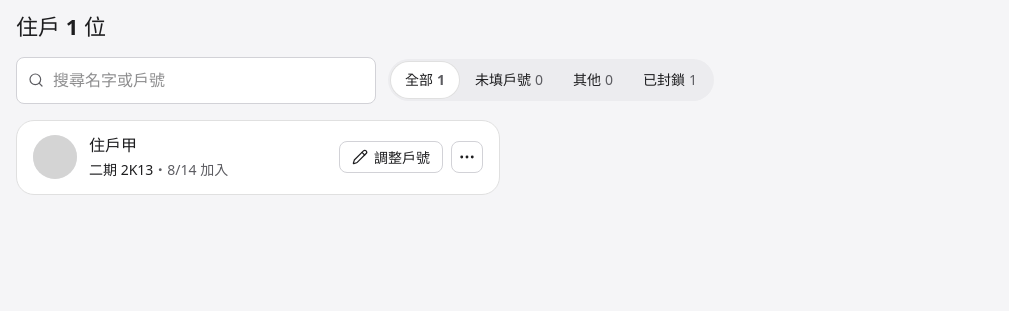
Test: ResidentMemberManagementApp › lets the organizer adjust a resident period and household from complete options
This screenshot has width=1009, height=311.
Click the button with aria-label "調整住戶資料 住戶甲" at (391, 157), box [339,141,443,173]
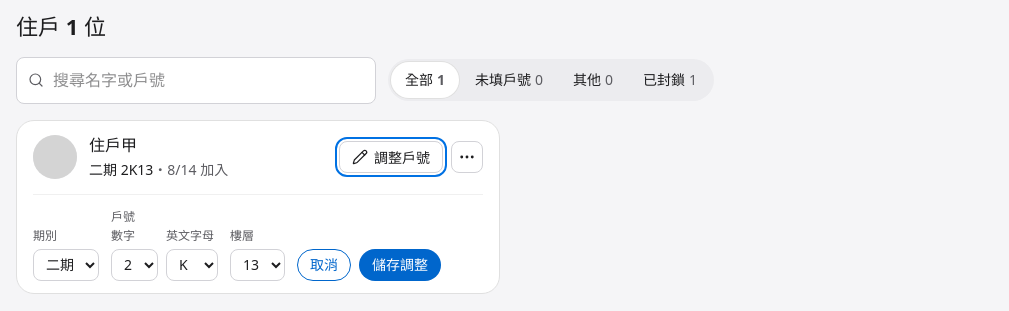
Select "三期" in the dropdown named "住戶甲 期別" at (66, 265), box [33,249,99,281]
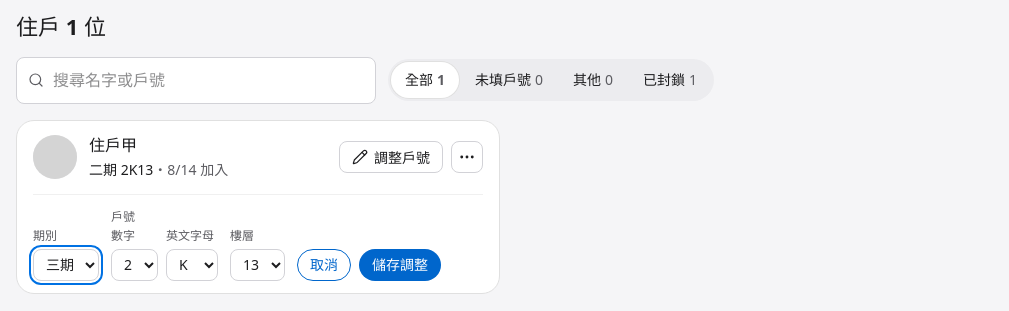
Result: the element "戶號" is shown at [111,207,218,281]
Select "3" in the dropdown named "住戶甲 戶號數字" at (134, 265), box [111,249,158,281]
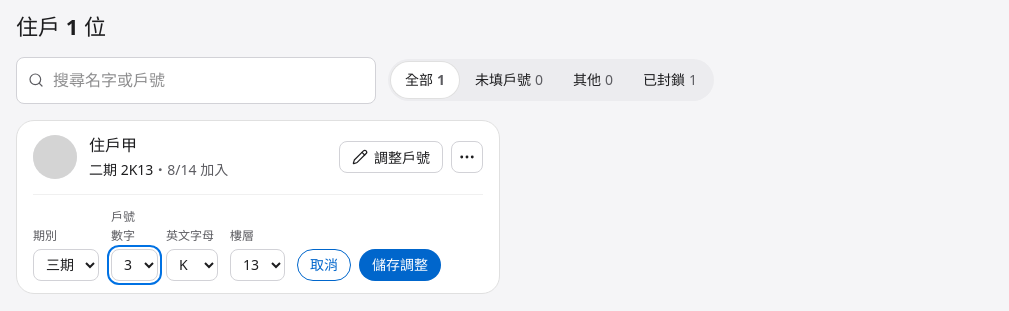
Select "Z" in the dropdown named "住戶甲 戶號英文字母" at (192, 265), box [166,249,218,281]
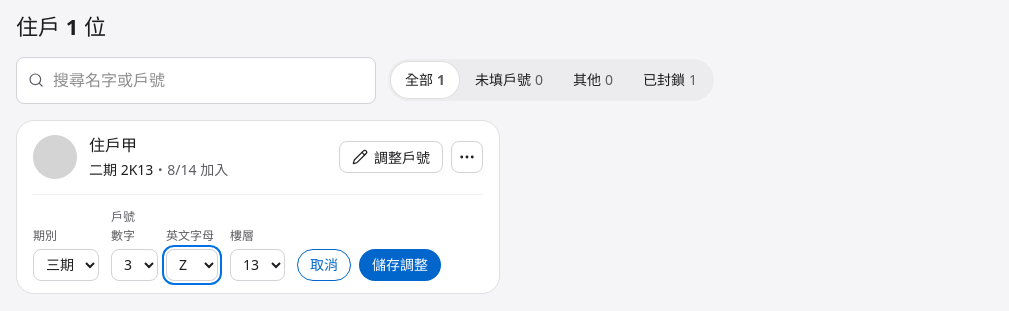
Select "15" in the dropdown named "住戶甲 樓層" at (258, 265), box [230,249,285,281]
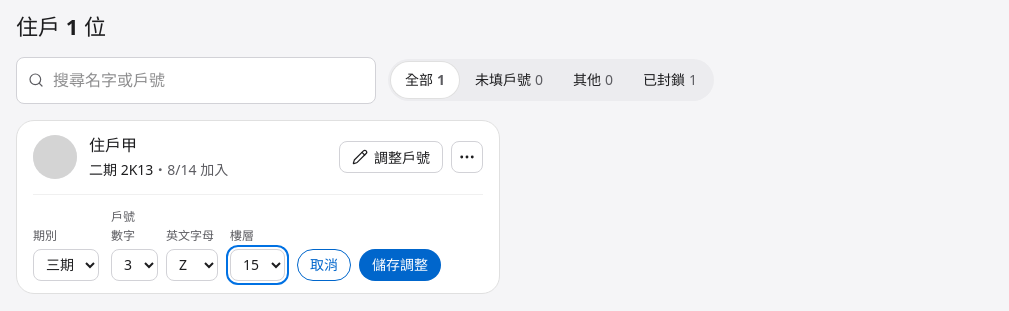
Click the button with aria-label "儲存住戶資料 住戶甲" at (400, 265), box [359,249,441,281]
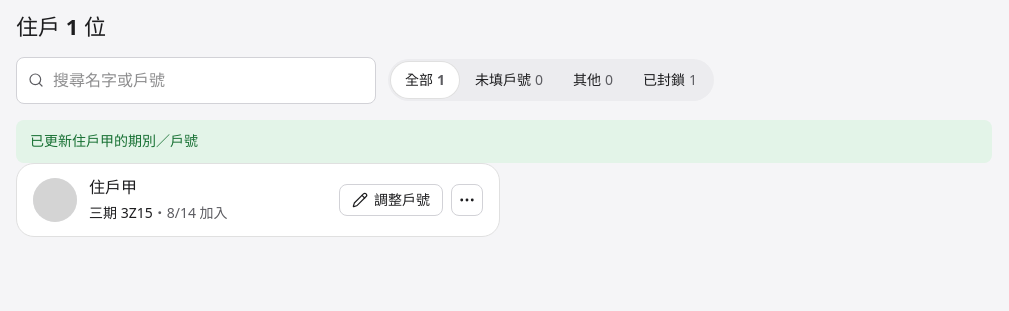
Result: the text "已更新住戶甲的期別／戶號" is shown at [30,130,198,153]
Result: the text "三期 3Z15" is shown at [89,203,153,222]
